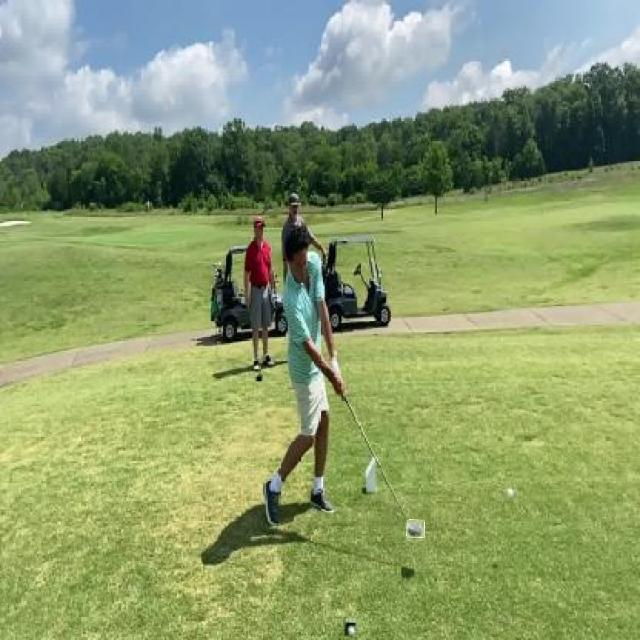club head: (407, 520, 425, 538)
